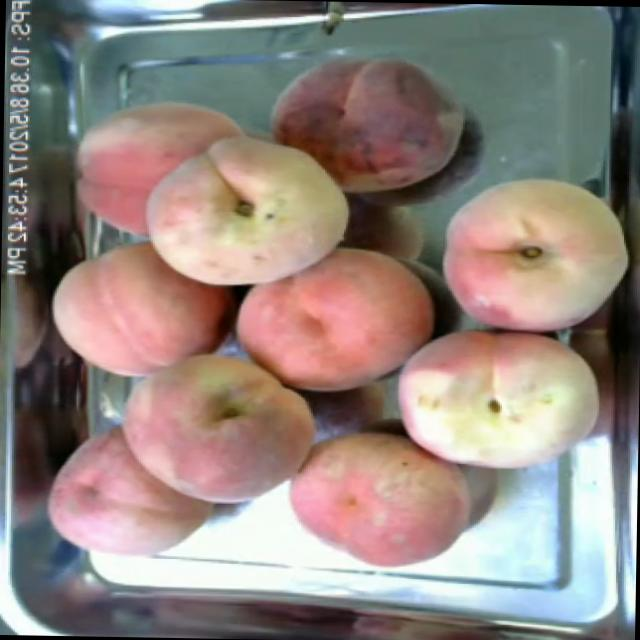Fruit: (100, 328, 331, 518), (222, 232, 448, 408), (138, 124, 359, 300), (379, 324, 614, 486), (274, 410, 485, 584), (260, 39, 476, 207), (430, 164, 638, 334), (29, 408, 234, 574), (36, 230, 234, 395), (64, 90, 244, 247)
